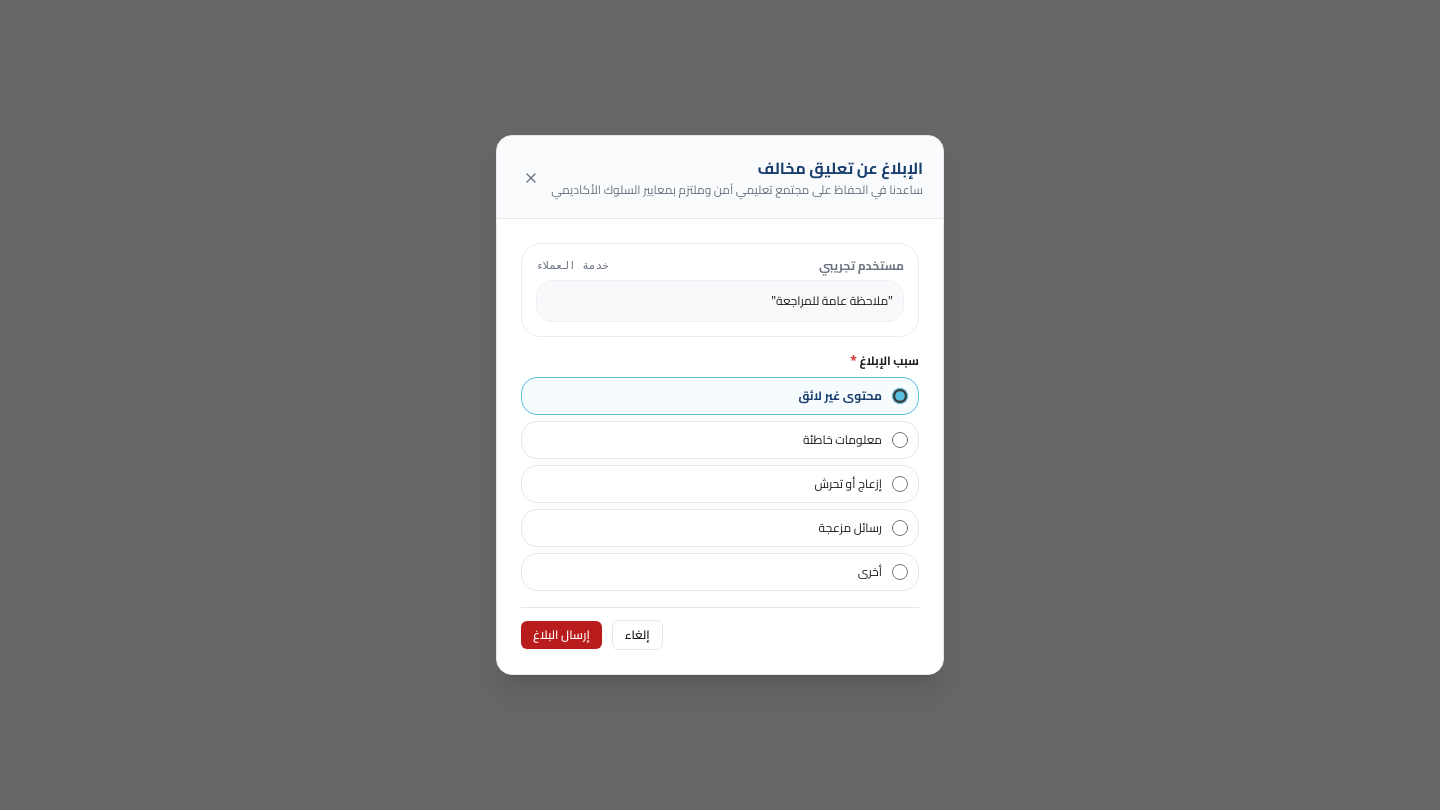
Test case: Increment 11 — Phase 5C: Course Discussion UI & Reporting Dialog › 3. Comment Reporting Dialog & Workflow › requires explanatory notes when "أخرى" reason is selected
# Select 'أخرى'
Click the radio button with test id "report-reason-radio-other": (900, 572) top-left (892, 564), bottom-right (908, 580)
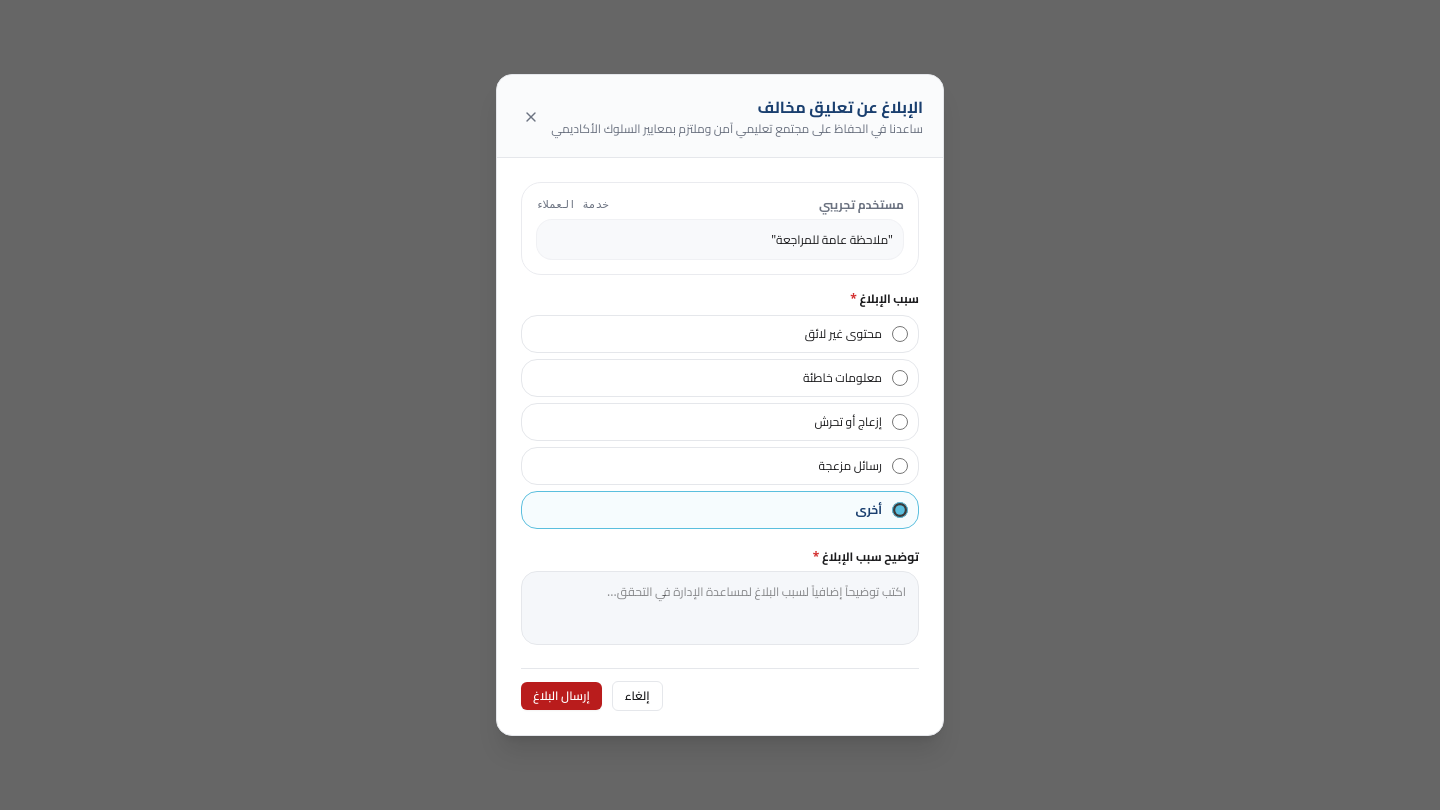
Result: the element with test id "report-notes-field" is shown at top-left (521, 545), bottom-right (919, 652)
# Attempt submit without typing notes
Click the button with test id "submit-report-btn": (561, 696) top-left (521, 682), bottom-right (602, 710)
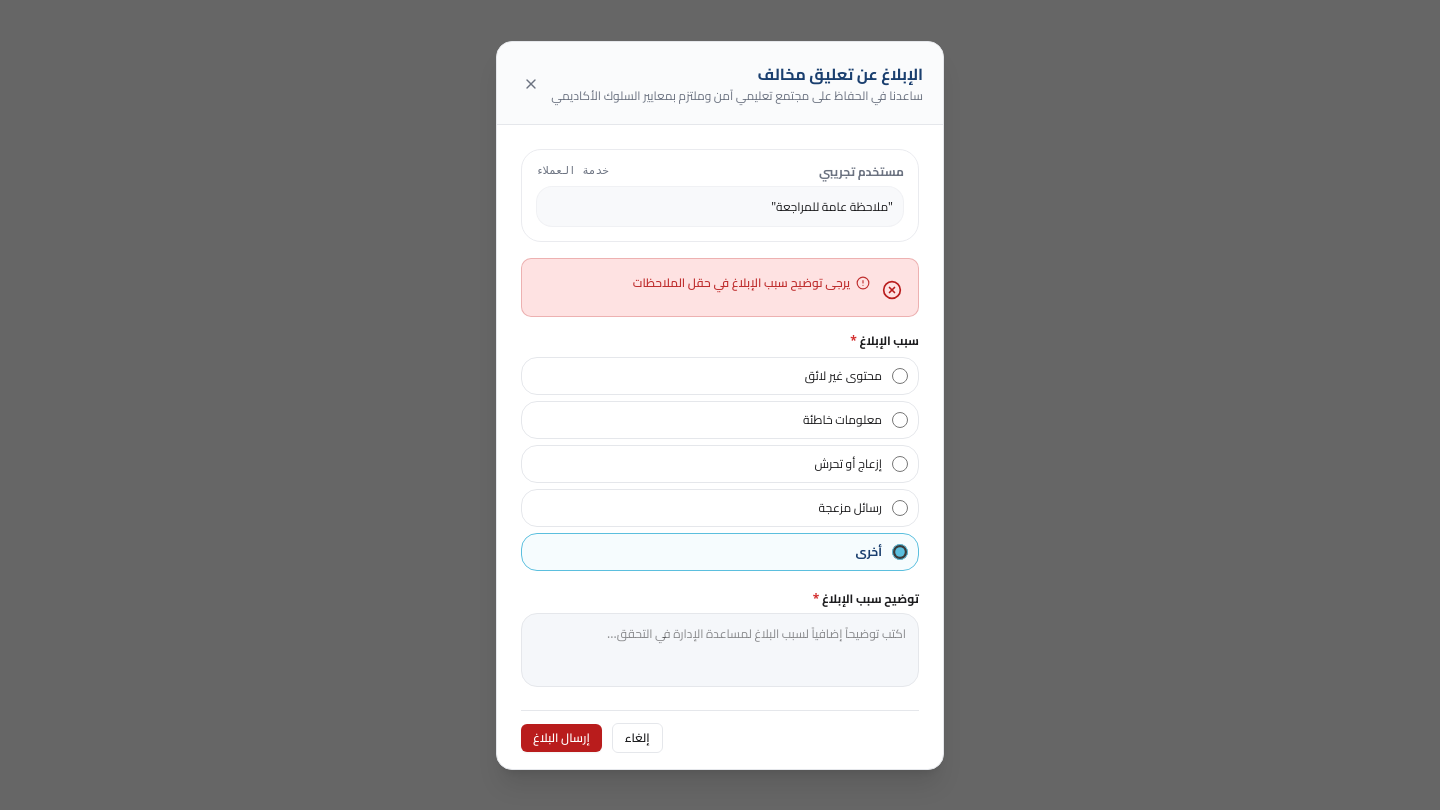
Result: the message with test id "report-error-alert" reads "يرجى توضيح سبب الإبلاغ في حقل الملاحظات" at top-left (633, 271), bottom-right (850, 294)
